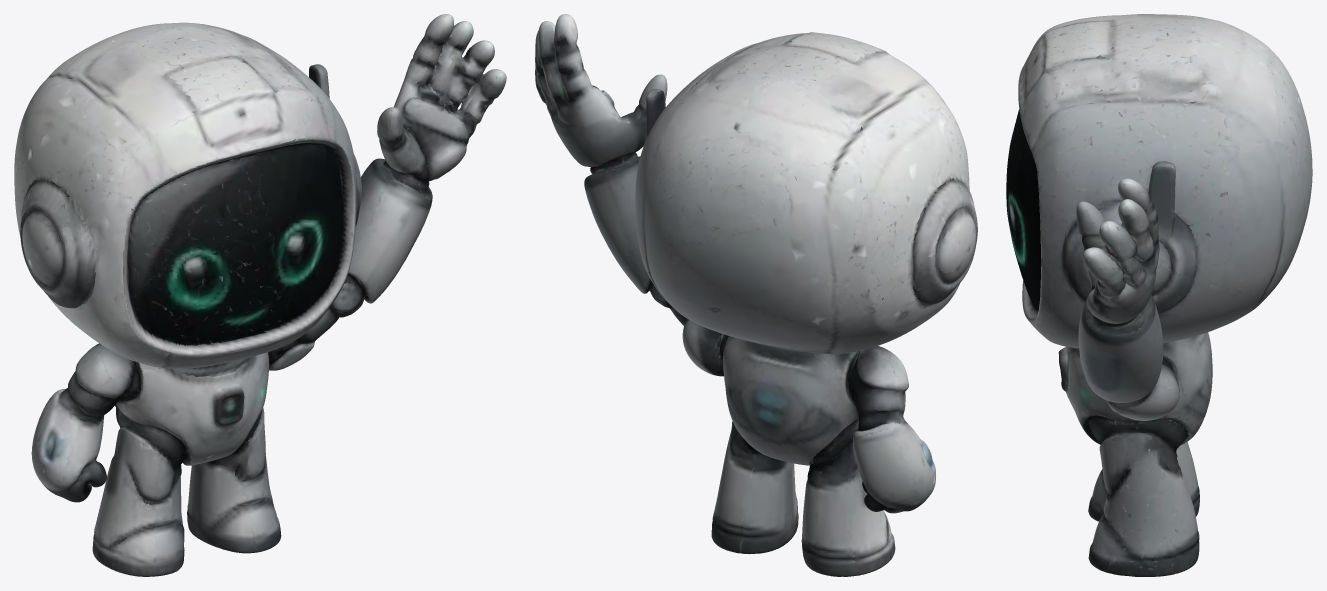
Rendered from robot_mainlevee.glb.
3 renders of one model, left to right at view 1: azimuth 30°, elevation 25°; view 2: azimuth 150°, elevation 25°; view 3: azimuth 270°, elevation 25°, orthographic. The views are drawn at different scales.
Parts seen in each view (by area): view 1: geometry_0; view 2: geometry_0; view 3: geometry_0.
Boxes of the visible parts, x1=… form: geometry_0: x1=14, y1=14, x2=506, y2=576; geometry_0: x1=535, y1=14, x2=977, y2=576; geometry_0: x1=1006, y1=14, x2=1312, y2=576.
Size of the model in its own units: 0.9524 by 0.9999 by 0.5491.
Materials: 1 (1 with a texture image).
